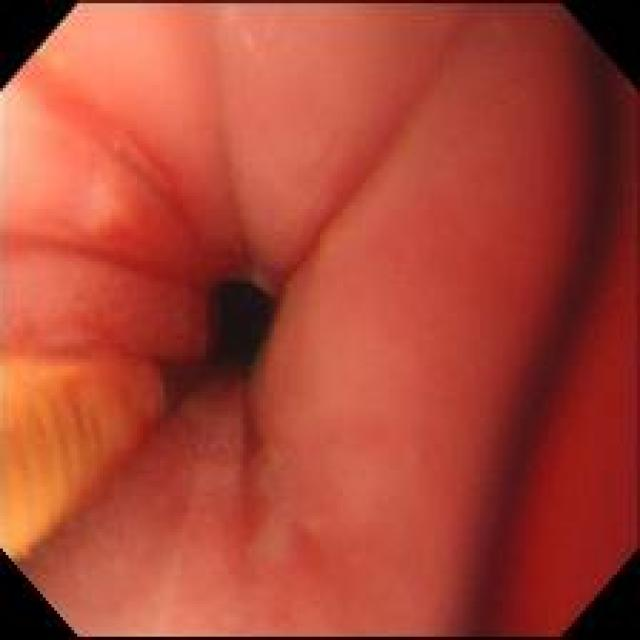blur: (458, 5, 637, 634)
contrast: (195, 262, 275, 373)
instrument: (1, 352, 182, 563)
